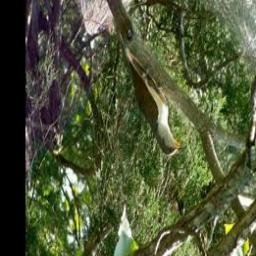Cuckoo: (113, 20, 182, 160)
